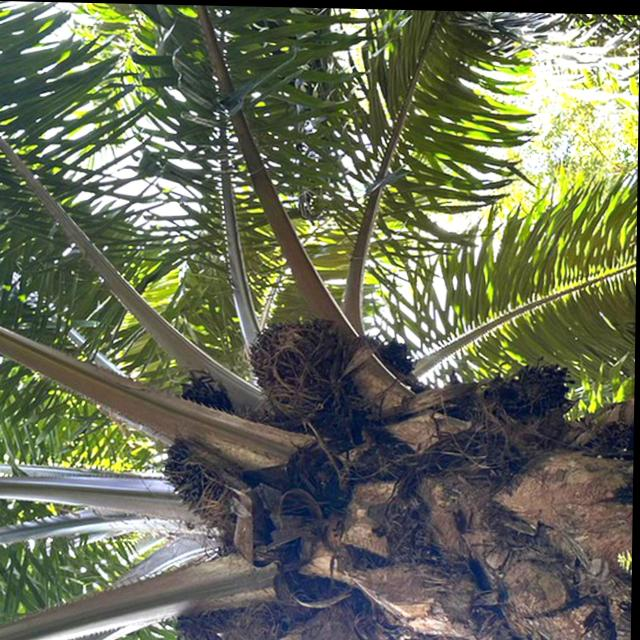ripe: (245, 317, 338, 415), (161, 448, 236, 522)
